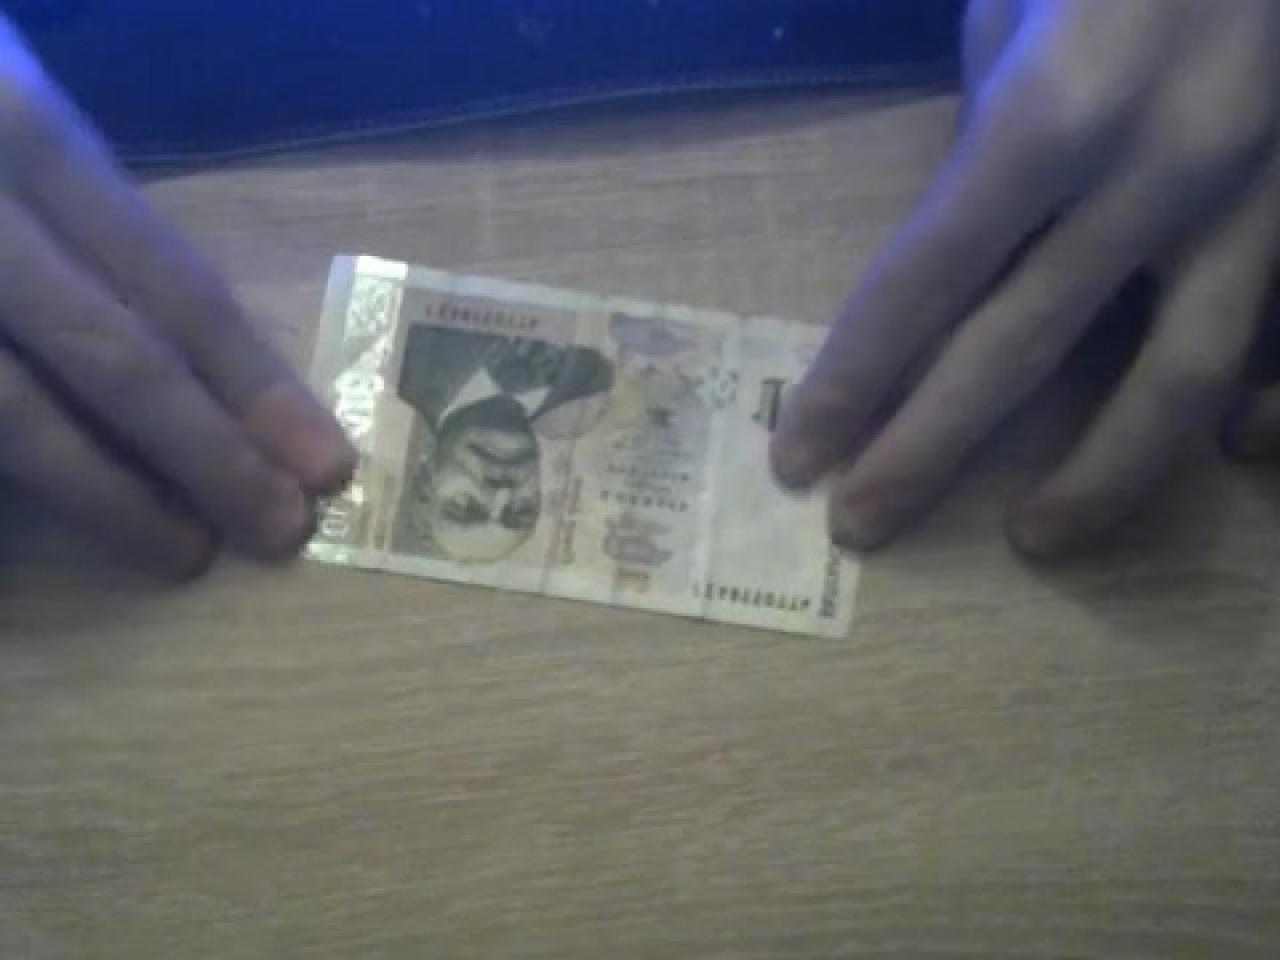10leva: (304, 253, 862, 640)
